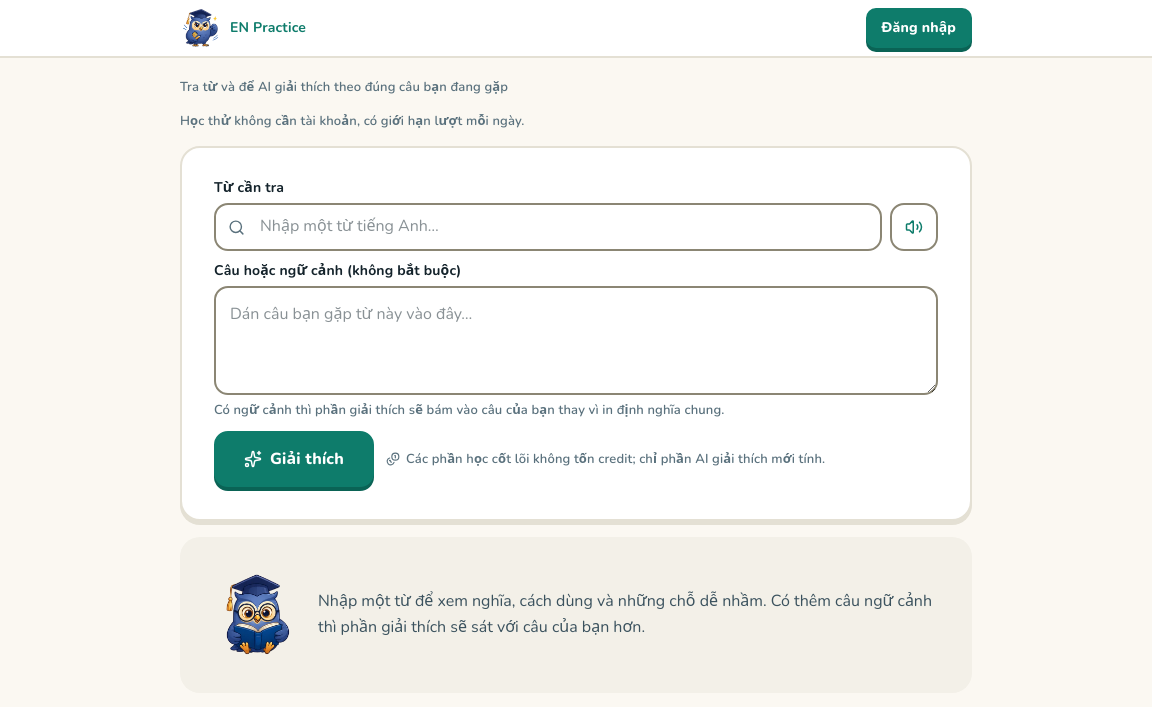
VocabularyCheckPage — the cost is on the button › refuses an empty word before opening a stream
What coordinates should you click on to do the following:
click the button "Giải thích"
I would click on:
 (294, 459)
Its box is [214, 431, 374, 487].
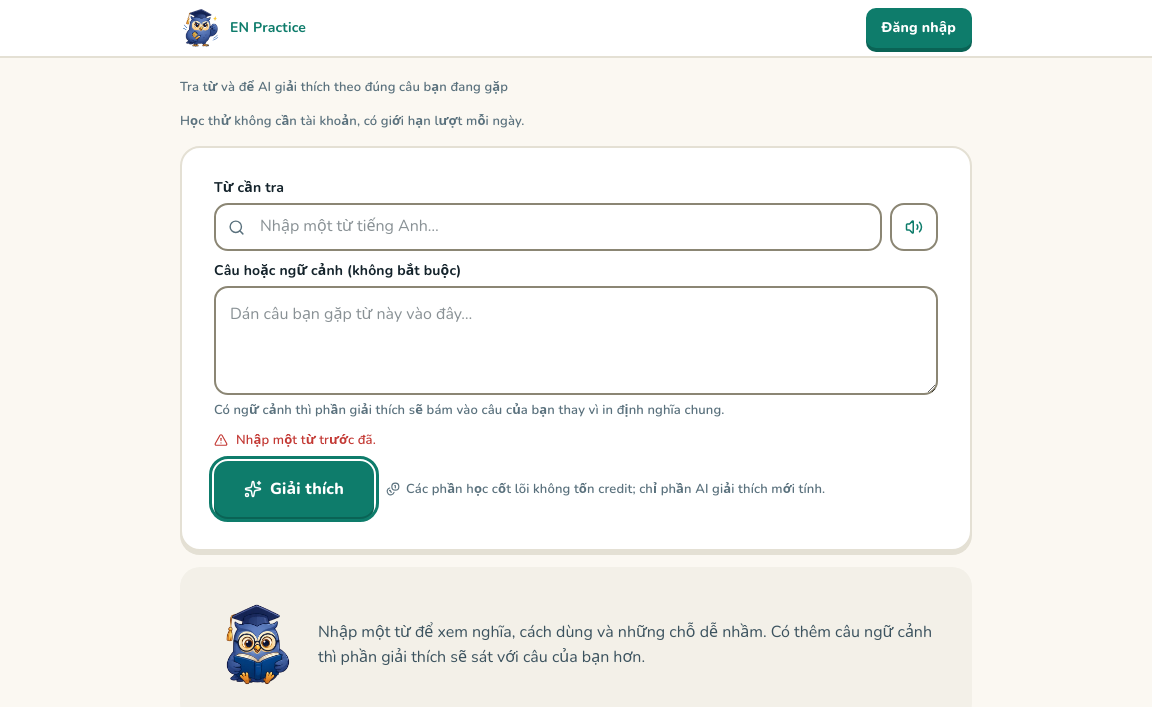
Now the text "Nhập một từ trước đã." is shown, box [214, 431, 376, 449]
